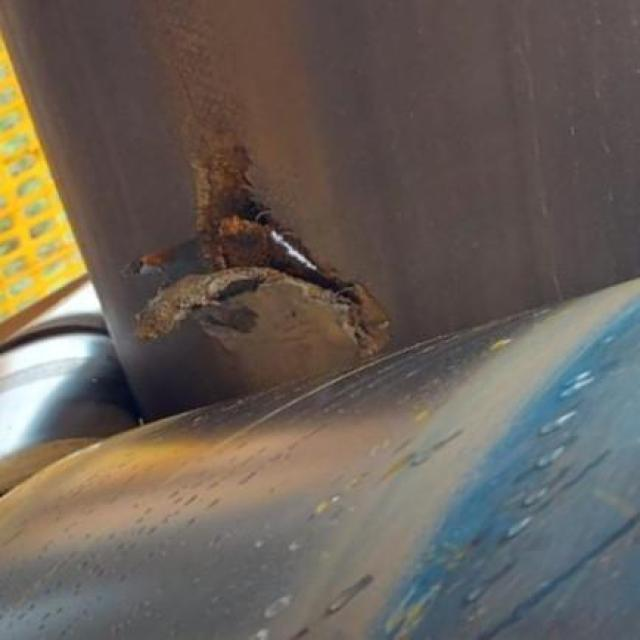Tear: (115, 134, 402, 356)
